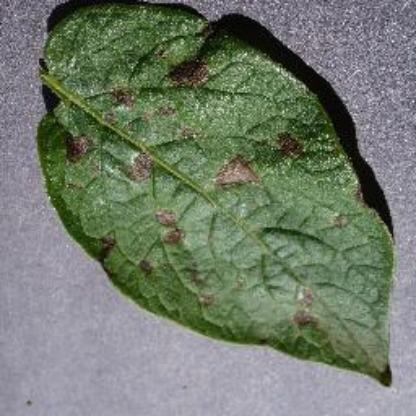Early-Blight: (32, 0, 414, 390)
